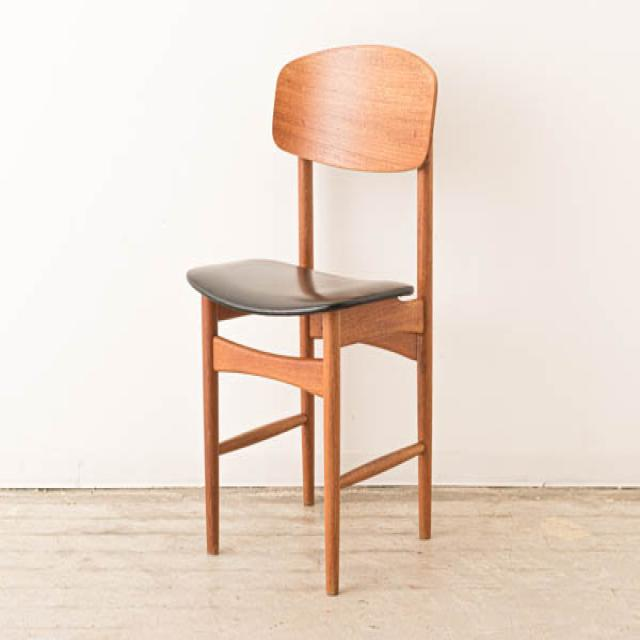chair vintage: (182, 40, 440, 601)
